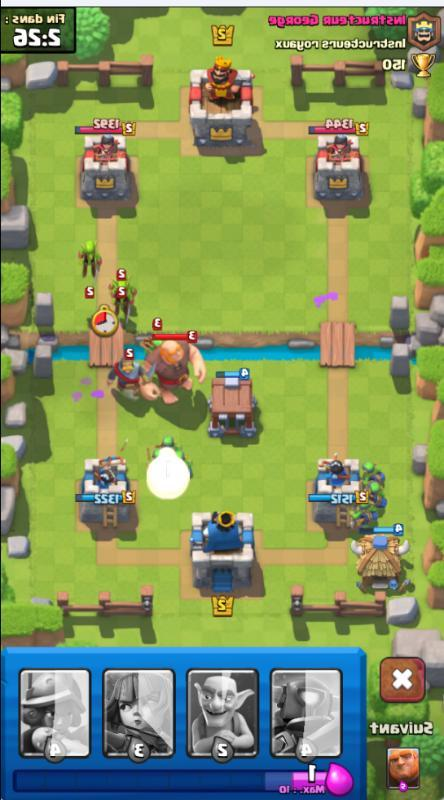enemy_giant: (143, 324, 209, 414)
enemy_goblin_hut: (347, 528, 415, 596)
enemy_goblins: (111, 273, 140, 319), (74, 236, 105, 279)
player_goblin_cage: (207, 364, 264, 447)
player_knight: (103, 349, 157, 397)
player_spear_goblins: (349, 500, 379, 528), (363, 482, 389, 507), (362, 457, 382, 480)
